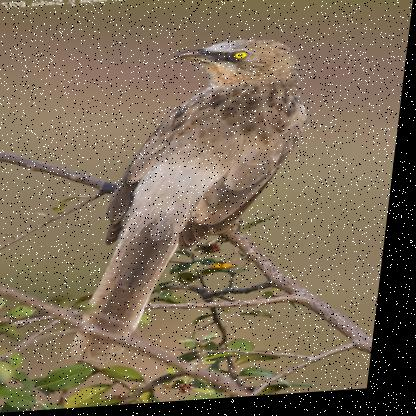Burung: (76, 38, 319, 365)
